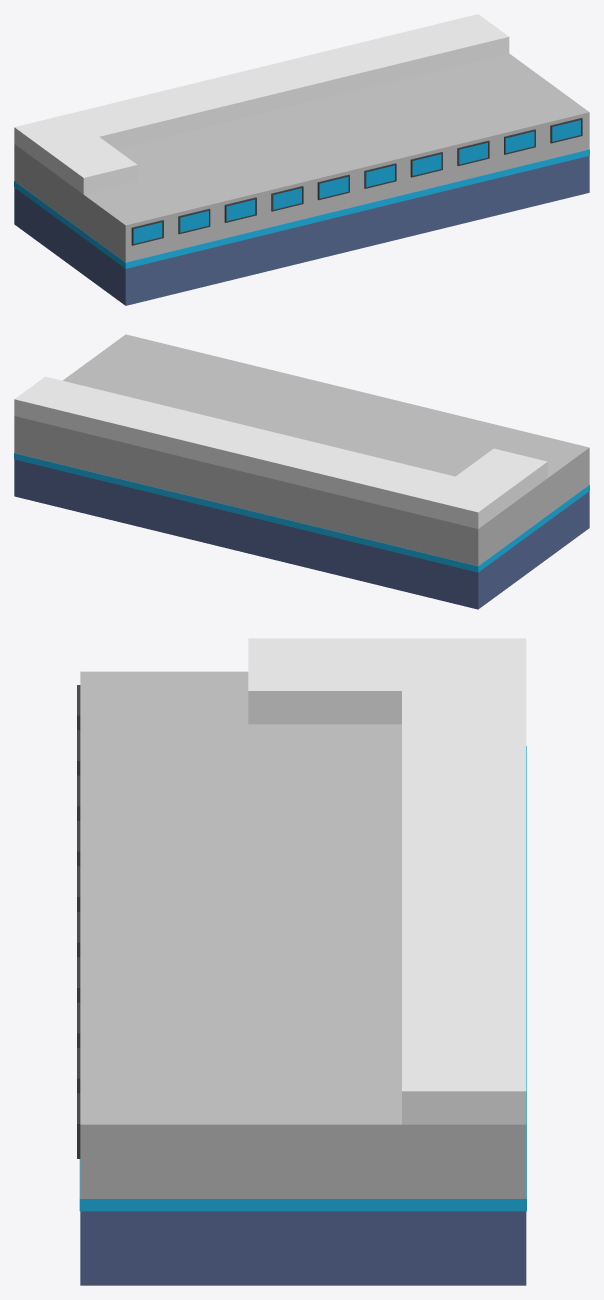
The model's file is Blue_Storage.fbx.
3 renders of one model, top to bottom at view 1: azimuth 30°, elevation 25°; view 2: azimuth 150°, elevation 25°; view 3: azimuth 270°, elevation 25°, orthographic. The views are drawn at different scales.
Visible parts, largest first — view 1: Cube.038; view 2: Cube.038; view 3: Cube.038.
Boxes of the visible parts, x1,y1,x2,y2 form: Cube.038: (14,14,589,305); Cube.038: (14,334,589,609); Cube.038: (77,638,526,1285).
Size of the model in its own units: 3608 by 722 by 1514.
